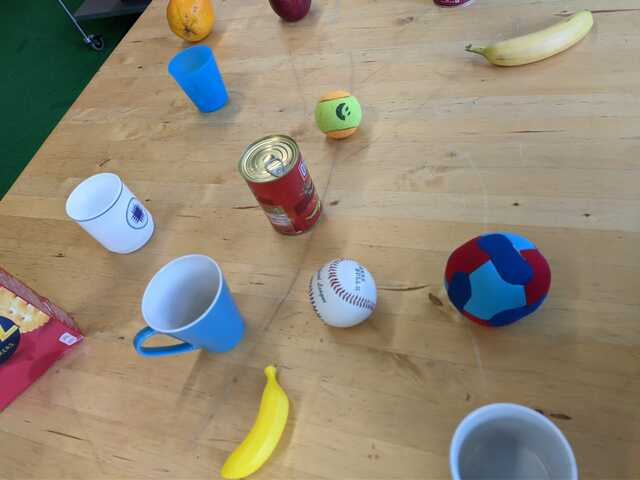003_cracker_box: (1, 262, 86, 416)
005_tomato_soup_can: (238, 134, 325, 236)
011_banana: (219, 366, 292, 480), (463, 11, 599, 67)
013_apple: (262, 1, 314, 24)
017_orange: (167, 1, 217, 43)
025_mug: (134, 254, 247, 360), (449, 401, 579, 480), (63, 172, 158, 256), (167, 44, 231, 115)
055_baseball: (306, 258, 379, 329)
056_tennis_ball: (315, 89, 364, 139)
057_racquetball: (443, 231, 553, 329)
